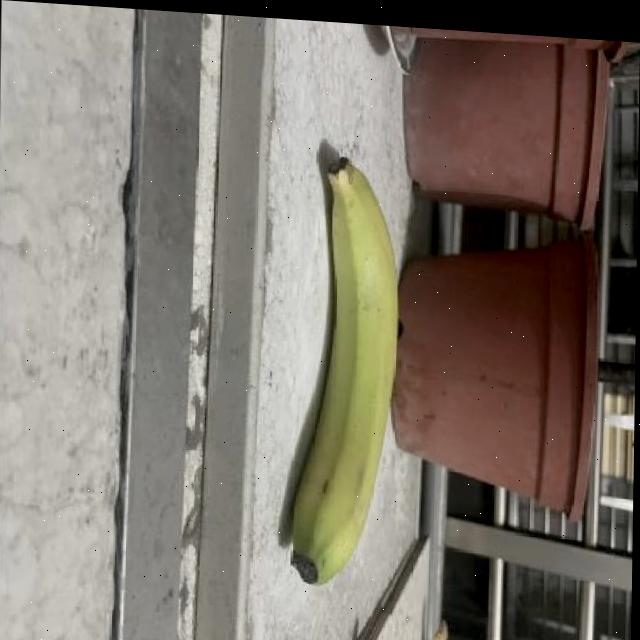banana: (275, 140, 404, 597)
